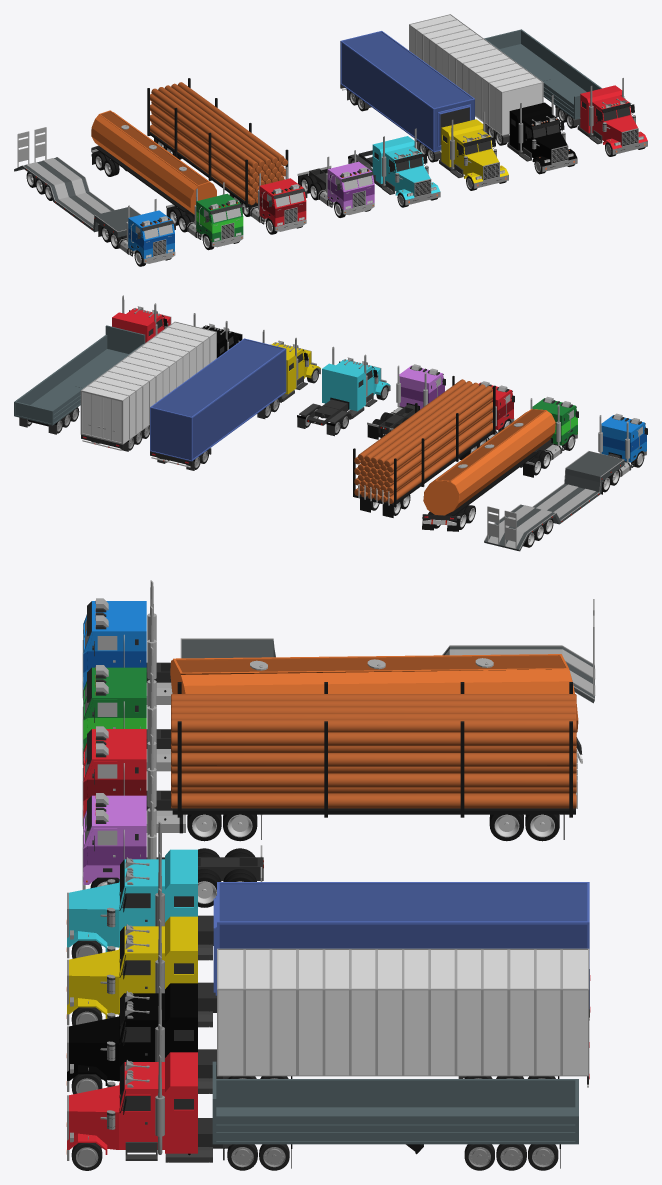
Rendered from truck.fbx.
3 renders of one model, top to bottom at view 1: azimuth 30°, elevation 25°; view 2: azimuth 150°, elevation 25°; view 3: azimuth 270°, elevation 25°, orthographic. The views are drawn at different scales.
Parts seen in each view (by area): view 1: Truck 7 backside, Truck 8 backside, Cylinder.100, Trck 4 back, Cylinder.099, Truck back 1, Cube.285, Cube.023, Truck back 2, Cube.276, Cube.055, Cube.231 (+21 smaller); view 2: Truck 7 backside, Truck 8 backside, Cylinder.100, Truck back 1, Trck 4 back, Cylinder.099, Cube.285, Truck back 2, Cube.233, Cube.023, Cube.276, Cube (+18 smaller); view 3: Truck 8 backside, Truck back 1, Cylinder.100, Cylinder.099, Truck 7 backside, Trck 4 back, Cube.285, Cube.055, Cylinder.105, Cube.200, Cube.231, Cube.169 (+23 smaller).
Part boxes in pixels (left/top/right/bottom): Truck 7 backside: left=341, top=32, right=473, bottom=151; Truck 8 backside: left=409, top=15, right=542, bottom=134; Cylinder.100: left=151, top=82, right=284, bottom=198; Trck 4 back: left=91, top=110, right=216, bottom=214; Cylinder.099: left=150, top=94, right=287, bottom=205; Truck back 1: left=484, top=29, right=601, bottom=119; Cube.285: left=409, top=14, right=543, bottom=135; Cube.023: left=26, top=158, right=110, bottom=224; Truck back 2: left=24, top=158, right=139, bottom=231; Cube.276: left=340, top=31, right=474, bottom=152; Cube.055: left=592, top=95, right=637, bottom=145; Cube.231: left=385, top=146, right=430, bottom=196; Truck 7 backside: left=151, top=340, right=284, bottom=460; Truck 8 backside: left=82, top=322, right=216, bottom=442; Cylinder.100: left=358, top=379, right=492, bottom=497; Truck back 1: left=14, top=325, right=145, bottom=425; Trck 4 back: left=423, top=409, right=555, bottom=515; Cylinder.099: left=354, top=391, right=492, bottom=503; Cube.285: left=80, top=321, right=216, bottom=444; Truck back 2: left=495, top=451, right=622, bottom=532; Cube.233: left=322, top=363, right=365, bottom=411; Cube.023: left=488, top=484, right=595, bottom=548; Cube.276: left=150, top=338, right=286, bottom=461; Cube: left=601, top=415, right=646, bottom=462; Truck 8 backside: left=218, top=950, right=587, bottom=1074; Truck back 1: left=212, top=1061, right=578, bottom=1144; Cylinder.100: left=171, top=694, right=576, bottom=793; Cylinder.099: left=171, top=732, right=576, bottom=808; Truck 7 backside: left=219, top=884, right=587, bottom=948; Trck 4 back: left=170, top=654, right=578, bottom=732; Cube.285: left=217, top=948, right=589, bottom=1076; Cube.055: left=69, top=1062, right=164, bottom=1149; Cylinder.105: left=176, top=656, right=565, bottom=672; Cube.200: left=69, top=993, right=164, bottom=1081; Cube.231: left=69, top=859, right=164, bottom=947; Cube.169: left=69, top=926, right=164, bottom=1014.
Size of the model in its own units: 4937 by 595 by 2238.
